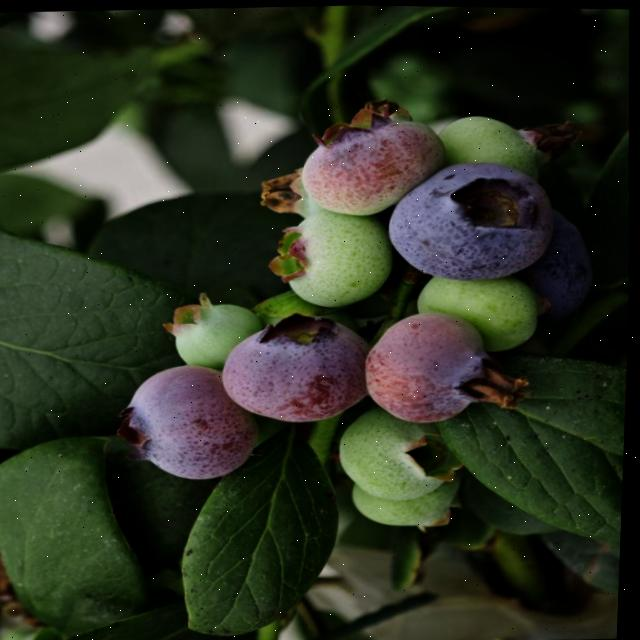RipeBlueBerry: (392, 162, 559, 279)
Semi-RipeBlueBerry: (113, 362, 254, 482), (224, 317, 377, 423), (360, 311, 494, 422), (300, 110, 443, 211)
UnripeBlueBerry: (342, 408, 462, 501), (282, 210, 391, 308)
